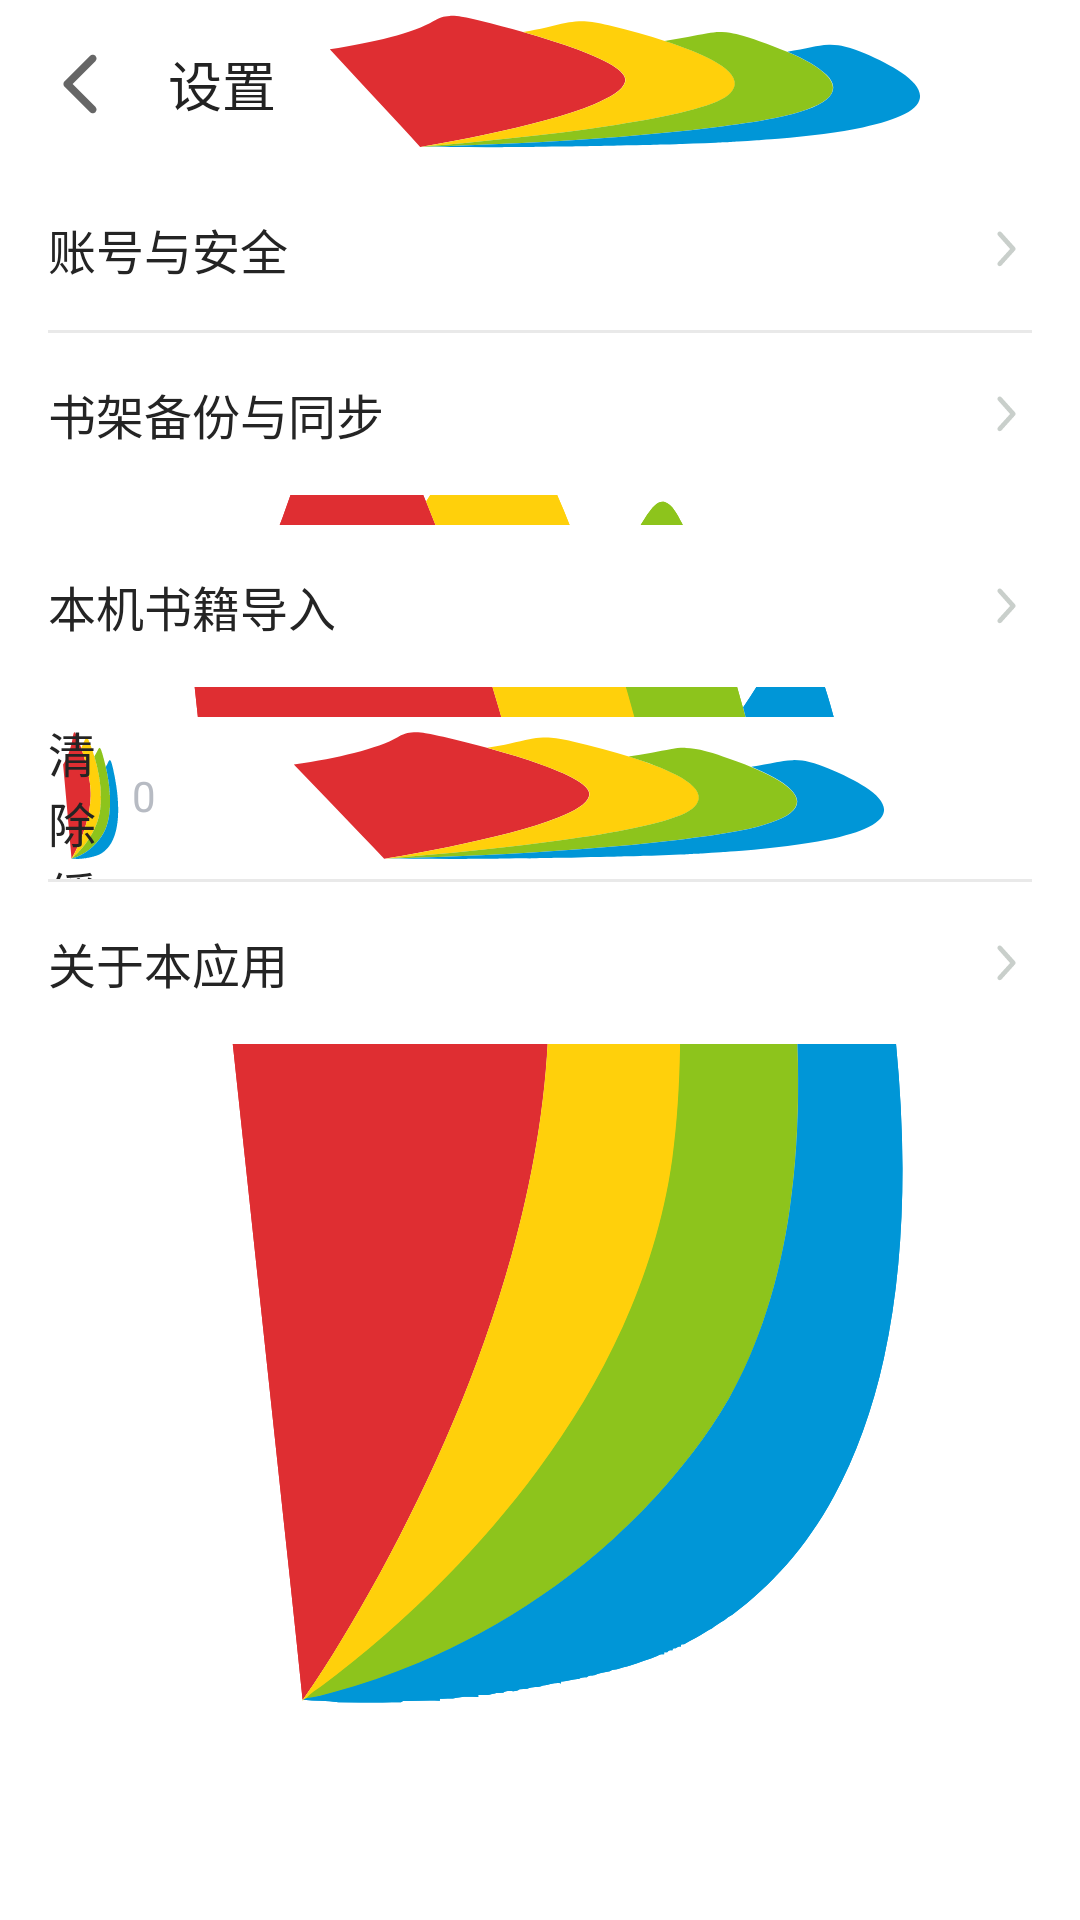

Point at icon controls on the screen. Image size 1080x1920, points as (x,y).
返回: (80,84)
